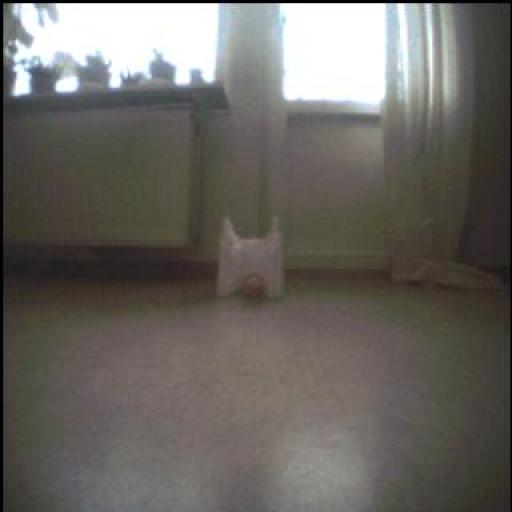Basket: (240, 271, 266, 304)
